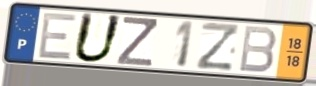1: (173, 19, 195, 70)
B: (237, 24, 279, 75)
E: (36, 11, 79, 62)
U: (70, 11, 125, 65)
Z: (194, 21, 242, 72), (115, 15, 159, 69)
